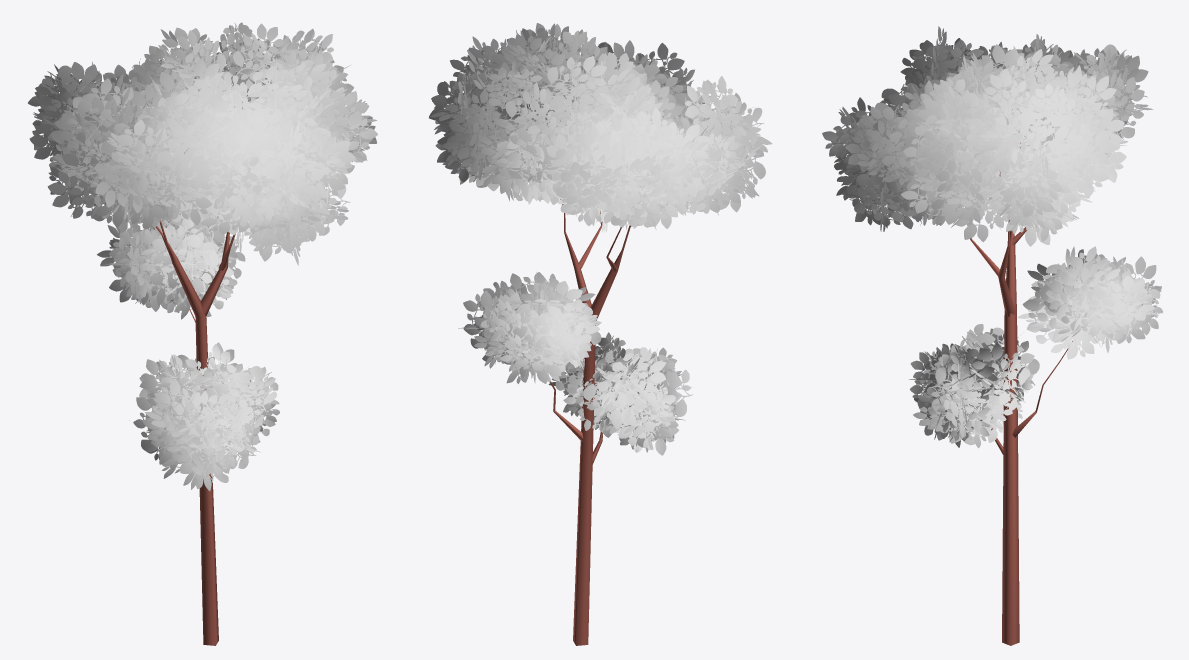
File: Tree4.fbx
The picture shows the model from 3 angles, left to right: view 1: azimuth 30°, elevation 25°; view 2: azimuth 150°, elevation 25°; view 3: azimuth 270°, elevation 25°; orthographic projection.
Visible parts, largest first — view 1: Leaves4.0_LOD_0, Leaves4.1_LOD_0, Leaves4.2_LOD_0, Leaves4.5_LOD_0, Leaves4.4_LOD_0, Leaves4.3_LOD_0, Trunk4_LOD_0; view 2: Leaves4.0_LOD_0, Leaves4.3_LOD_0, Leaves4.4_LOD_0, Leaves4.2_LOD_0, Leaves4.5_LOD_0, Trunk4_LOD_0, Leaves4.1_LOD_0; view 3: Leaves4.0_LOD_0, Leaves4.4_LOD_0, Leaves4.5_LOD_0, Leaves4.1_LOD_0, Trunk4_LOD_0, Leaves4.3_LOD_0, Leaves4.2_LOD_0.
Part boxes in pixels (left/top/right/bottom): Leaves4.0_LOD_0: left=121, top=22, right=377, bottom=173; Leaves4.1_LOD_0: left=172, top=98, right=355, bottom=265; Leaves4.2_LOD_0: left=47, top=96, right=233, bottom=234; Leaves4.5_LOD_0: left=129, top=342, right=279, bottom=491; Leaves4.4_LOD_0: left=97, top=213, right=245, bottom=319; Leaves4.3_LOD_0: left=28, top=58, right=177, bottom=165; Trunk4_LOD_0: left=155, top=148, right=235, bottom=645; Leaves4.0_LOD_0: left=429, top=23, right=671, bottom=204; Leaves4.3_LOD_0: left=536, top=107, right=702, bottom=232; Leaves4.4_LOD_0: left=458, top=272, right=601, bottom=383; Leaves4.2_LOD_0: left=594, top=76, right=772, bottom=215; Leaves4.5_LOD_0: left=548, top=332, right=694, bottom=455; Trunk4_LOD_0: left=517, top=111, right=707, bottom=645; Leaves4.1_LOD_0: left=527, top=40, right=704, bottom=133; Leaves4.0_LOD_0: left=892, top=44, right=1127, bottom=246; Leaves4.4_LOD_0: left=1017, top=246, right=1162, bottom=359; Leaves4.5_LOD_0: left=909, top=324, right=1039, bottom=448; Leaves4.1_LOD_0: left=822, top=79, right=986, bottom=231; Trunk4_LOD_0: left=970, top=142, right=1072, bottom=645; Leaves4.3_LOD_0: left=1001, top=34, right=1153, bottom=149; Leaves4.2_LOD_0: left=883, top=26, right=1076, bottom=139.
Size of what is drawn, in the model's own units: 888 by 1576 by 867.
